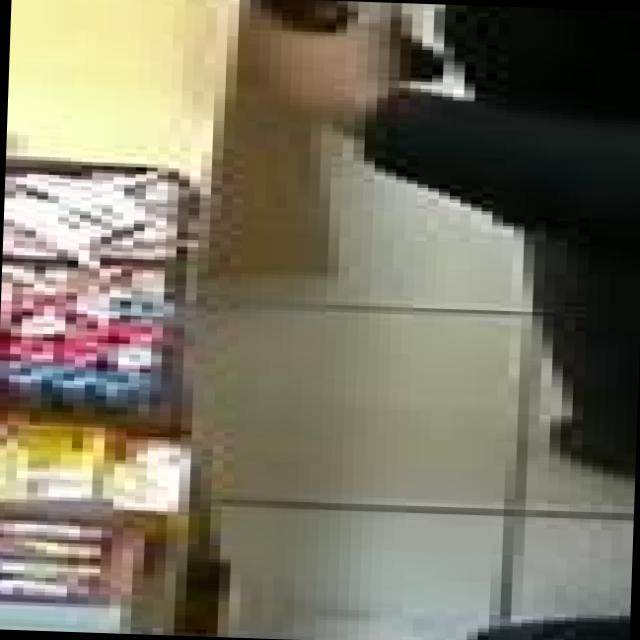Guns: (96, 0, 423, 49)
